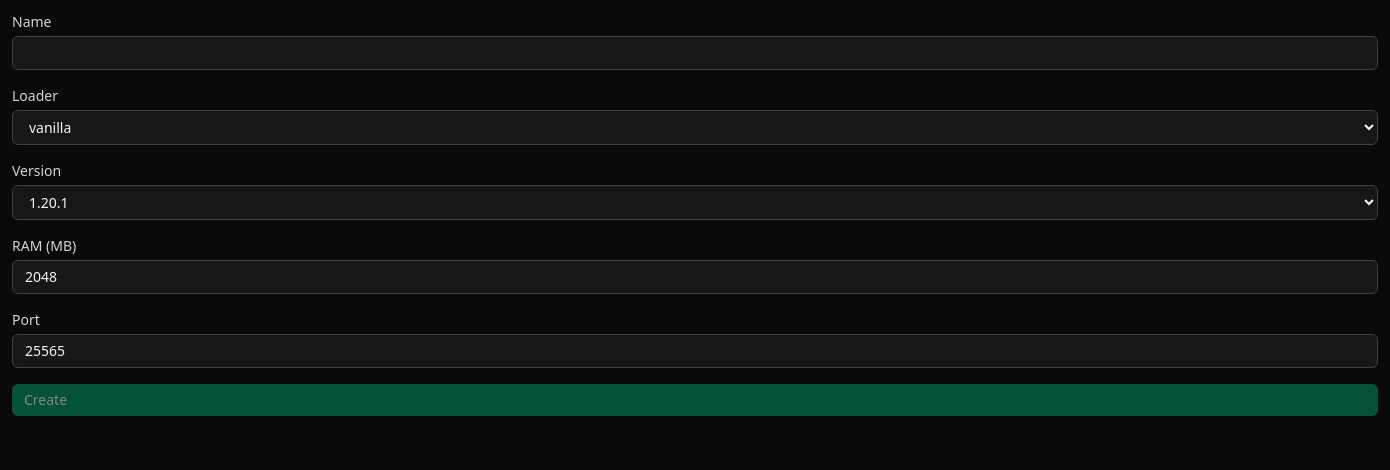
Test: CreateWizard › shows mapped copy for a coded backend error, not the raw message
Type "survival" into the field labelled "Name" at (695, 53), box 12,36 -> 1378,70
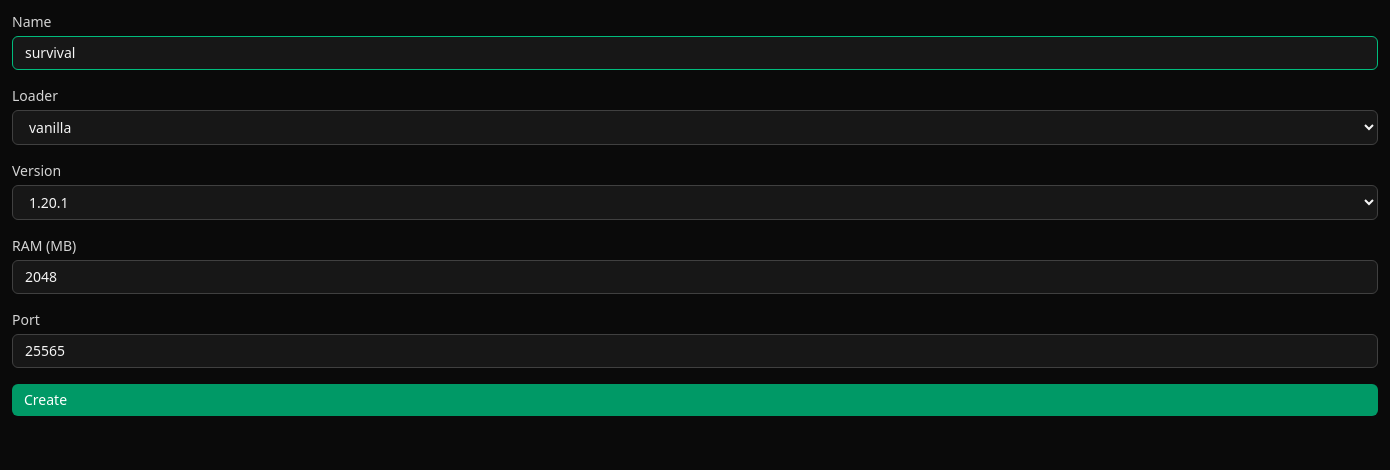
Expected: the dropdown labelled "Version" is enabled, 12,185 -> 1378,220
Click the button "Create" at (46, 400), box 12,384 -> 1378,416
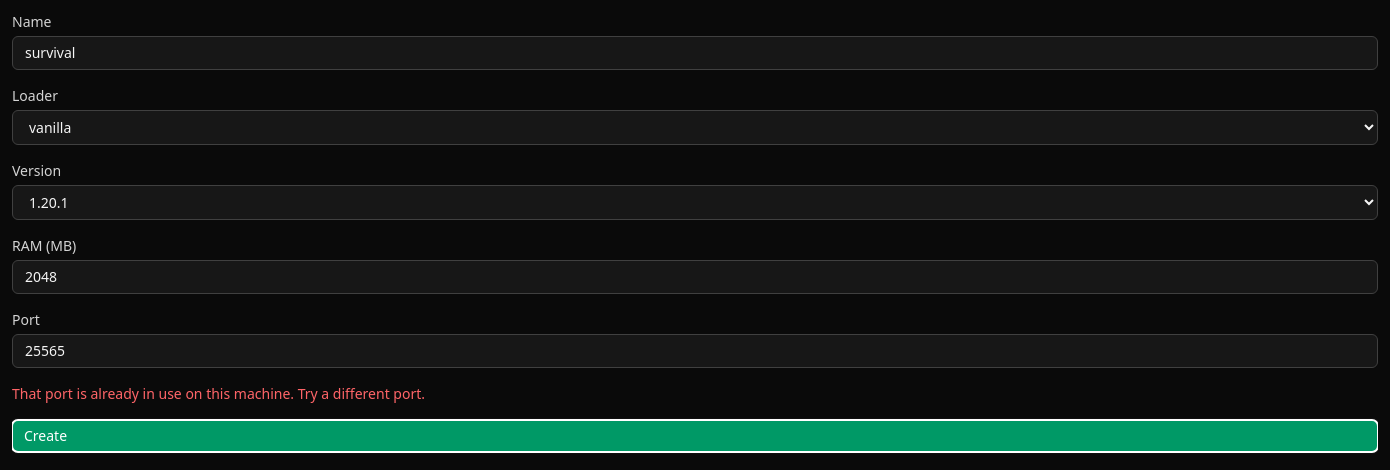
Expected: the message does not show "port is already allocated", 12,384 -> 425,403
Now the message reads "That port is already in use on this machine. Try a different port.", box 12,384 -> 425,403
